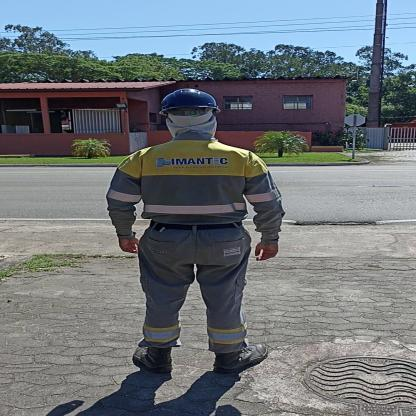Balaclava: (165, 109, 219, 139)
Capacete: (155, 84, 214, 108)
